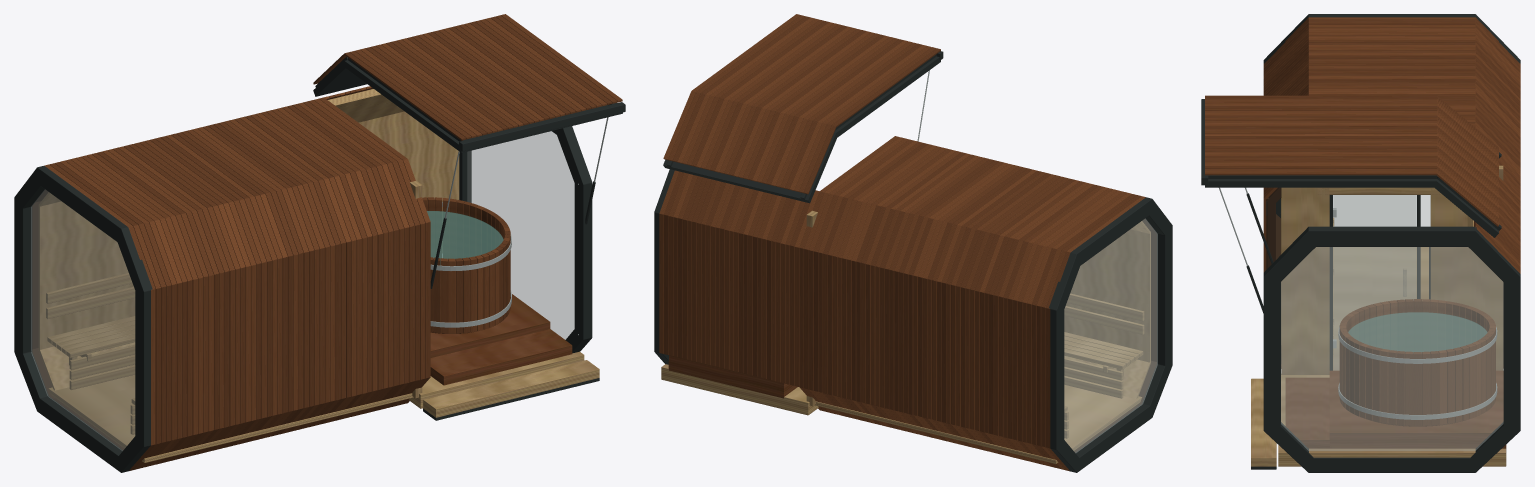
The model's file is cube-plus.glb.
3 renders of one model, left to right at view 1: azimuth 30°, elevation 25°; view 2: azimuth 150°, elevation 25°; view 3: azimuth 270°, elevation 25°, orthographic. The views are drawn at different scales.
Visible parts, largest first — view 1: 01_Sauna, 01_Sauna__Interior_aspen, 01_Sauna__Clear_warm_glass, 03_Canopy_open, 02_Cold_plunge, 02_Cold_plunge__Clear_warm_glass, 01_Sauna__Anthracite_powder_coat, 02_Cold_plunge__Interior_aspen, 02_Cold_plunge__Anthracite_powder_coat, 03_Canopy_open__Anthracite_powder_coat, 02_Cold_plunge__Plunge_water, 01_Sauna__Shadow_gaps (+1 smaller); view 2: 01_Sauna, 02_Cold_plunge, 03_Canopy_open, 01_Sauna__Clear_warm_glass, 01_Sauna__Interior_aspen, 01_Sauna__Anthracite_powder_coat, 03_Canopy_open__Anthracite_powder_coat, 02_Cold_plunge__Interior_aspen, 01_Sauna__Shadow_gaps, 02_Cold_plunge__Anthracite_powder_coat; view 3: 02_Cold_plunge__Clear_warm_glass, 03_Canopy_open, 02_Cold_plunge, 01_Sauna, 01_Sauna__Interior_aspen, 02_Cold_plunge__Anthracite_powder_coat, 01_Sauna__Clear_warm_glass, 03_Canopy_open__Anthracite_powder_coat, 02_Cold_plunge__Interior_aspen, 02_Cold_plunge__Plunge_water, 01_Sauna__Anthracite_powder_coat, 02_Cold_plunge__Brushed_stainless (+1 smaller).
Boxes of the visible parts, box(x1,y1,x2,y2) form: 01_Sauna: box(44, 97, 430, 470); 01_Sauna__Interior_aspen: box(38, 180, 422, 462); 01_Sauna__Clear_warm_glass: box(31, 189, 134, 450); 03_Canopy_open: box(313, 14, 622, 140); 02_Cold_plunge: box(324, 86, 572, 385); 02_Cold_plunge__Clear_warm_glass: box(467, 131, 574, 339); 01_Sauna__Anthracite_powder_coat: box(14, 166, 152, 472); 02_Cold_plunge__Interior_aspen: box(328, 89, 599, 417); 02_Cold_plunge__Anthracite_powder_coat: box(423, 126, 599, 420); 03_Canopy_open__Anthracite_powder_coat: box(313, 56, 625, 288); 02_Cold_plunge__Plunge_water: box(427, 211, 503, 265); 01_Sauna__Shadow_gaps: box(32, 189, 124, 450); 01_Sauna: box(799, 136, 1145, 470); 02_Cold_plunge: box(659, 170, 819, 398); 03_Canopy_open: box(663, 14, 940, 194); 01_Sauna__Clear_warm_glass: box(1064, 218, 1157, 452); 01_Sauna__Interior_aspen: box(806, 210, 1150, 463); 01_Sauna__Anthracite_powder_coat: box(1049, 197, 1172, 472); 03_Canopy_open__Anthracite_powder_coat: box(663, 51, 943, 203); 02_Cold_plunge__Interior_aspen: box(661, 364, 818, 415); 01_Sauna__Shadow_gaps: box(1074, 219, 1156, 452); 02_Cold_plunge__Anthracite_powder_coat: box(654, 169, 674, 364); 02_Cold_plunge__Clear_warm_glass: box(1281, 247, 1503, 450); 03_Canopy_open: box(1205, 95, 1498, 226); 02_Cold_plunge: box(1285, 177, 1520, 448); 01_Sauna: box(1263, 17, 1520, 368); 01_Sauna__Interior_aspen: box(1281, 165, 1503, 374); 02_Cold_plunge__Anthracite_powder_coat: box(1251, 226, 1520, 472); 01_Sauna__Clear_warm_glass: box(1333, 195, 1430, 370); 03_Canopy_open__Anthracite_powder_coat: box(1201, 99, 1501, 313); 02_Cold_plunge__Interior_aspen: box(1251, 216, 1506, 466); 02_Cold_plunge__Plunge_water: box(1348, 312, 1487, 351); 01_Sauna__Anthracite_powder_coat: box(1263, 14, 1520, 370); 02_Cold_plunge__Brushed_stainless: box(1338, 327, 1497, 419).
Bounding box in the file's own units: 5.02 × 3.22 × 3.11.
12 materials, 5 textured.
